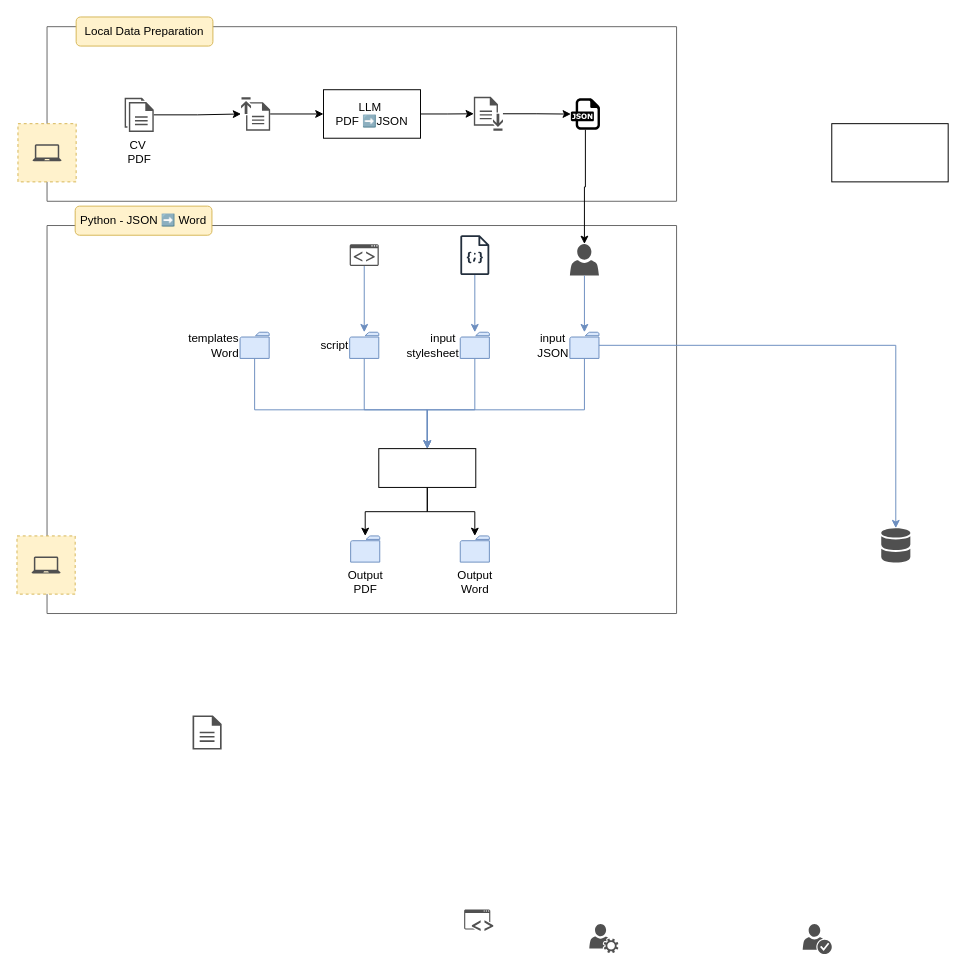
The diagram is 965 pixels wide and 971 high, and some of its shapes have lost their labels. The box of each missing label's shape, as (x1, y1, x2, y2) in pixels:
Download JSON: (473, 96, 502, 130)
Exec. CV Generator: (378, 448, 476, 487)
Upload to LLM: (241, 97, 270, 130)
